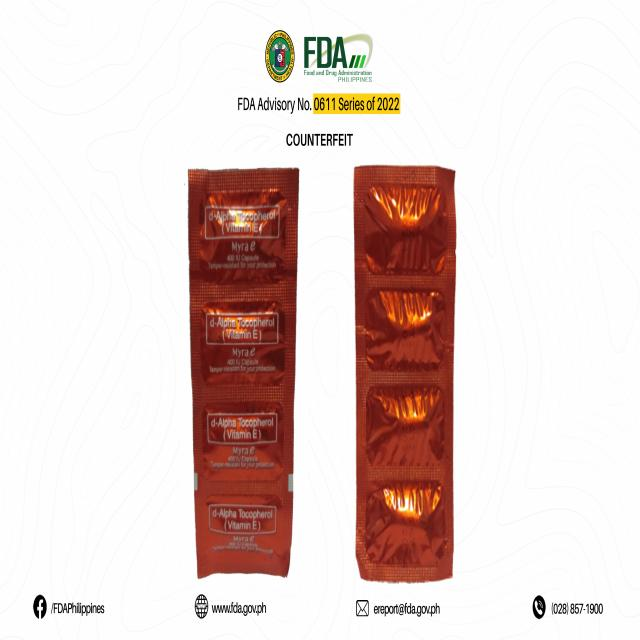counterfeit: (188, 162, 294, 584), (350, 160, 454, 588)
